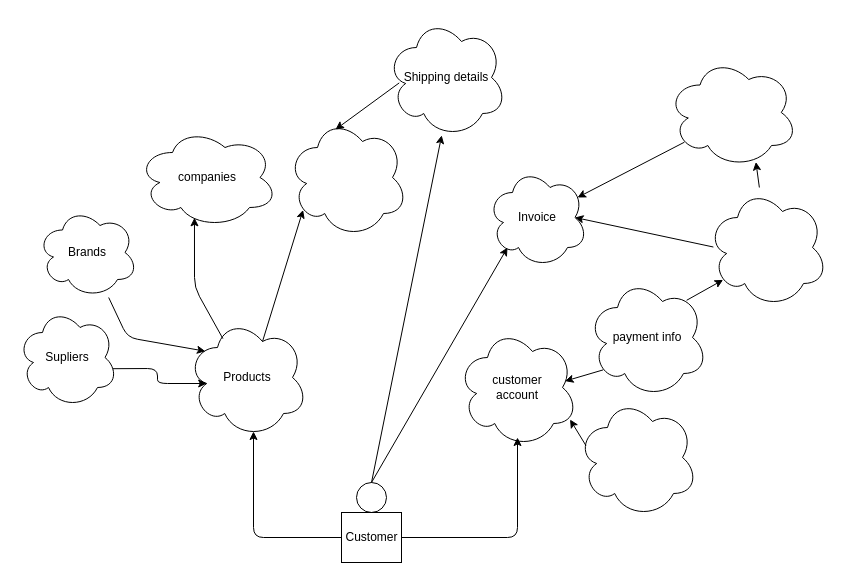
Image size: 845x580. Some labels were removed from this diagram. Each missing label, with the centre of its shape:
Orders: pixel 347 177
payment processor: pixel 732 112
payment status: pixel 767 247
Shipping info: pixel 637 457
